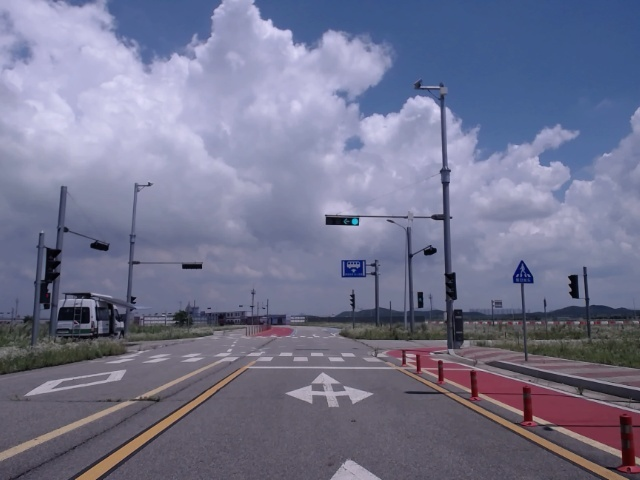all_green_4: (324, 217, 355, 226)
